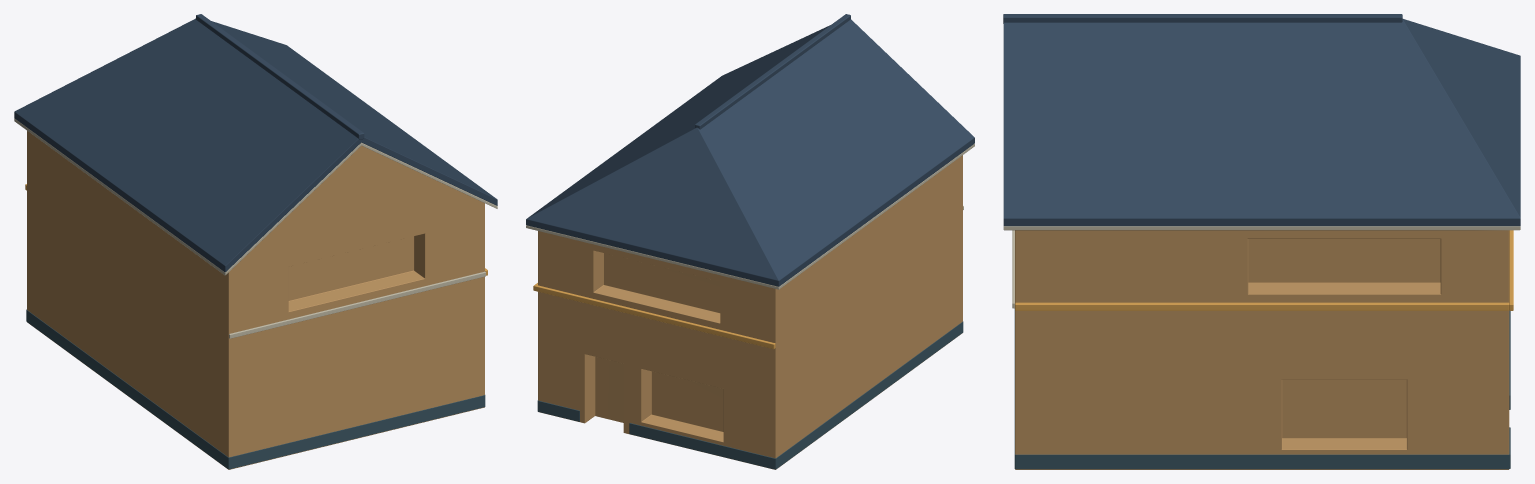
Rendered from d05_quay_frontages_04.glb.
3 views of the same model, side by side, from view 1: azimuth 30°, elevation 25°; view 2: azimuth 150°, elevation 25°; view 3: azimuth 270°, elevation 25° (orthographic). The views are drawn at different scales.
Parts seen in each view (by area): view 1: D05QuayFrontages04_Mesh; view 2: D05QuayFrontages04_Mesh; view 3: D05QuayFrontages04_Mesh.
Boxes of the visible parts, x1,y1,x2,y2 form: D05QuayFrontages04_Mesh: (14, 14, 497, 469); D05QuayFrontages04_Mesh: (526, 14, 974, 469); D05QuayFrontages04_Mesh: (1003, 14, 1520, 469).
Bounding box in the file's own units: 9.36 × 10.13 × 12.57.
